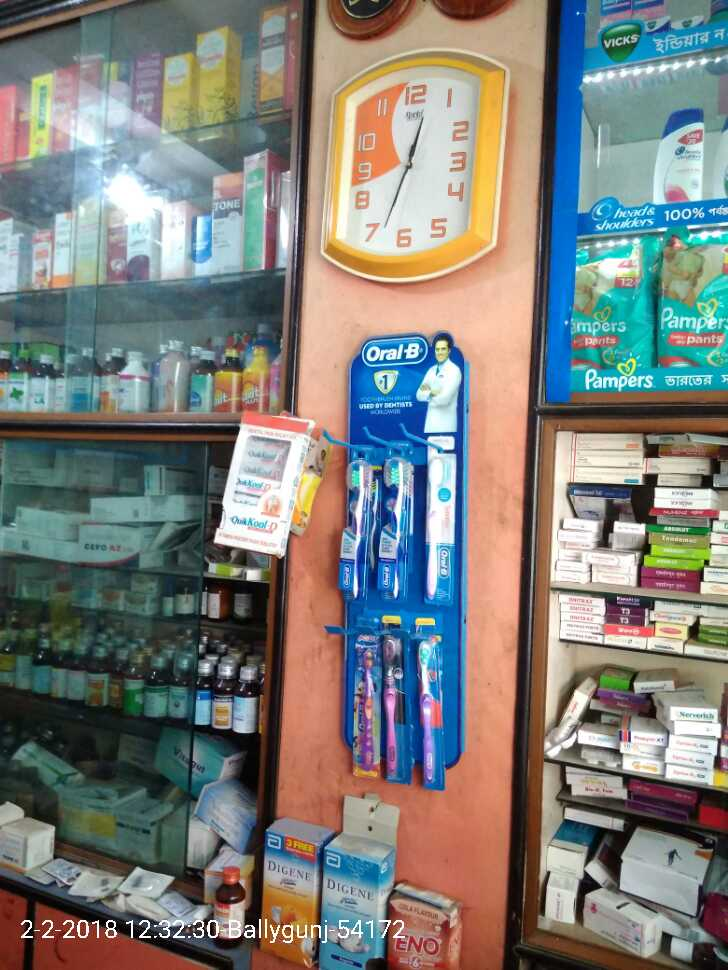beauty: (642, 105, 714, 204)
pharmacy: (571, 236, 661, 371), (657, 228, 728, 381), (340, 466, 375, 605), (381, 458, 411, 601), (421, 460, 450, 598)
